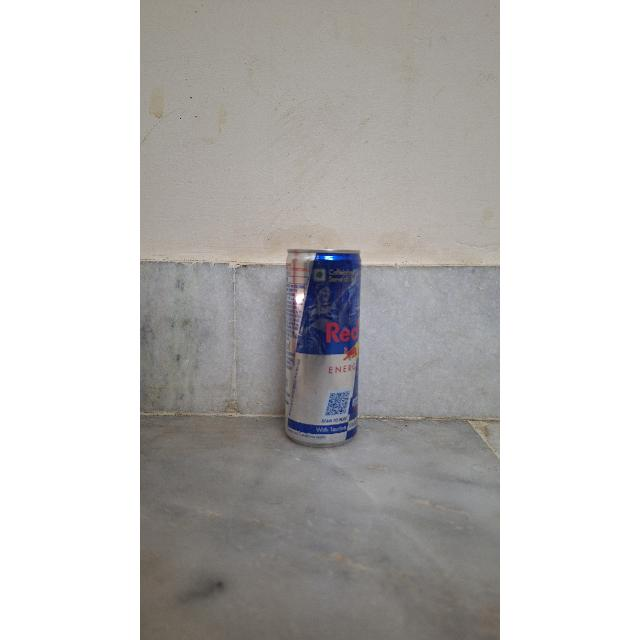Redbull DanceYourStyle: (286, 240, 364, 442)
